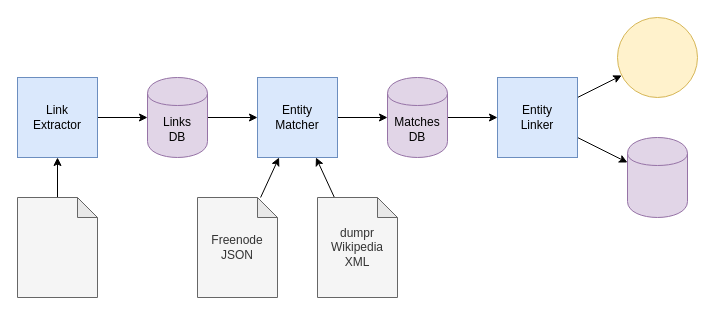
Some shapes in this 715 by 315 pixel diagram are drawn without their labels. The shapes that lost their labels are listed below. From the top down, each one's centre as x and y in pixels, then its label:
(x=657, y=57): Elastic- search Index
(x=657, y=177): Contexts DB
(x=57, y=247): Full Wikipedia XML
